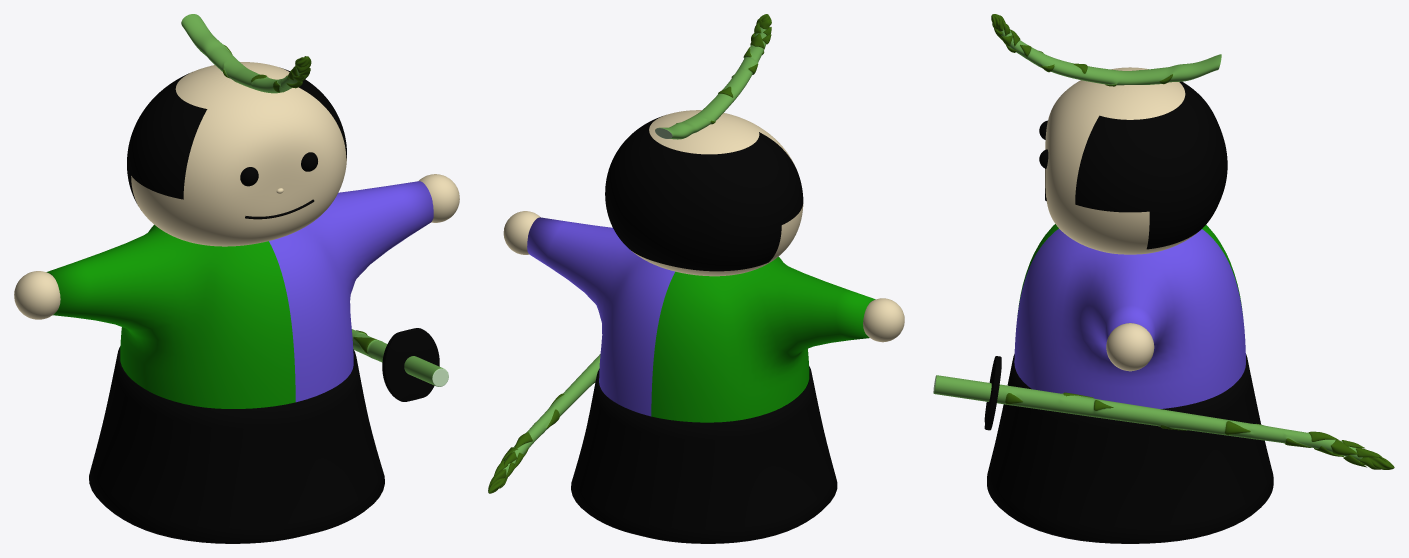
File: samurai.glb
3 views of the same model, side by side, from view 1: azimuth 30°, elevation 25°; view 2: azimuth 150°, elevation 25°; view 3: azimuth 270°, elevation 25° (orthographic). The views are drawn at different scales.
Parts seen in each view (by area): view 1: 立方体.001, 立方体.002, 球, 球.003, アスパラガス, 円, アスパラガス.001, 球.001; view 2: 立方体.001, 立方体.002, 球, アスパラガス, 球.003, アスパラガス.001; view 3: 立方体.002, 立方体.001, 球, アスパラガス.001, アスパラガス, 球.003, 円.
Part boxes in pixels (x1,y1,x2,y2): 立方体.001: (46,181,433,408); 立方体.002: (89,346,384,543); 球: (127,62,346,246); 球.003: (14,174,459,319); アスパラガス: (181,14,311,93); 円: (382,328,439,401); アスパラガス.001: (352,329,448,386); 球.001: (240,152,317,186); 立方体.001: (527,217,875,422); 立方体.002: (571,366,837,543); 球: (605,110,803,276); アスパラガス: (655,14,771,139); 球.003: (503,211,904,342); アスパラガス.001: (488,354,600,493); 立方体.002: (987,354,1273,543); 立方体.001: (1014,224,1245,408); 球: (1045,67,1227,254); アスパラガス.001: (933,375,1394,469); アスパラガス: (991,14,1221,86); 球.003: (1106,323,1154,371); 円: (984,356,1001,430).
Size of the model in its own units: 4.43 by 4.8 by 4.09.
